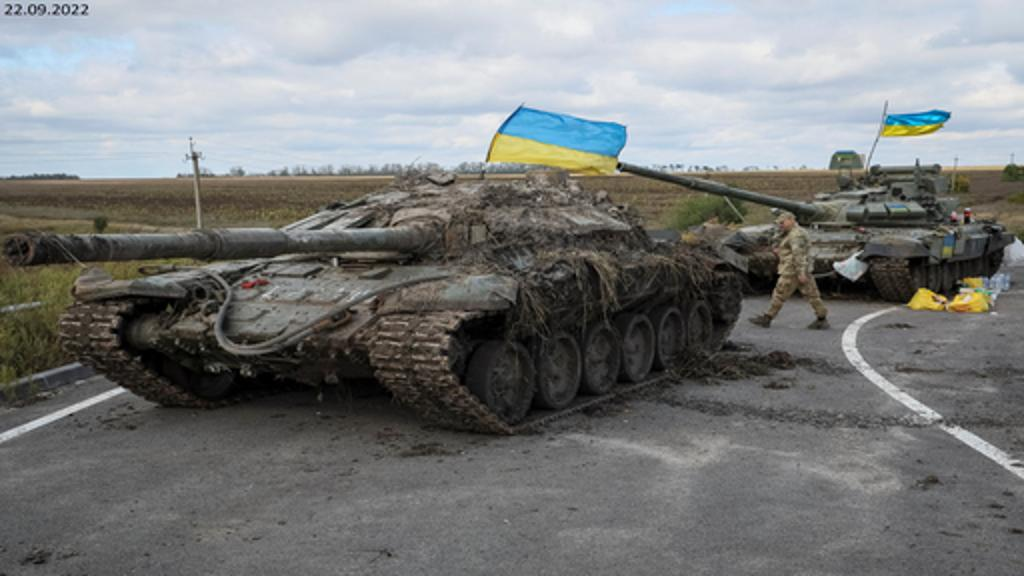TANK: (6, 152, 748, 432), (614, 156, 1012, 310)
